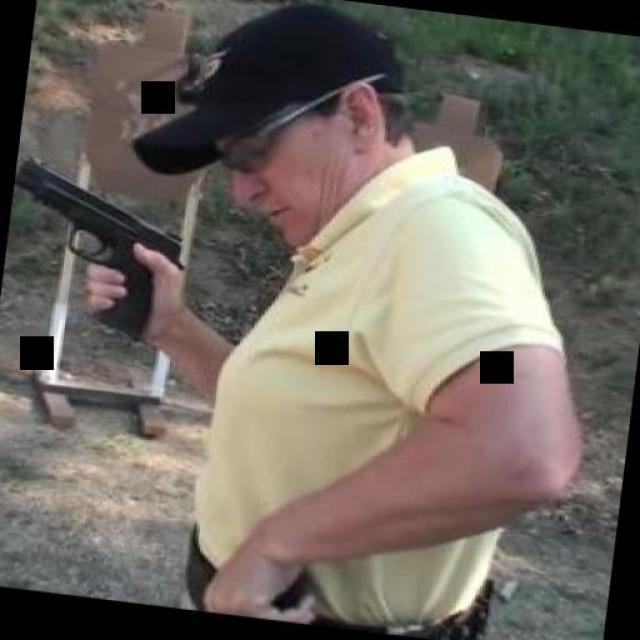gun: (1, 151, 190, 339)
